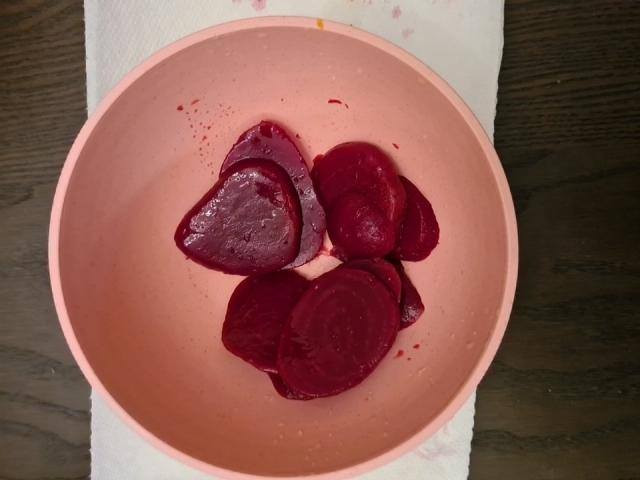kichen waste: (174, 122, 439, 401)
